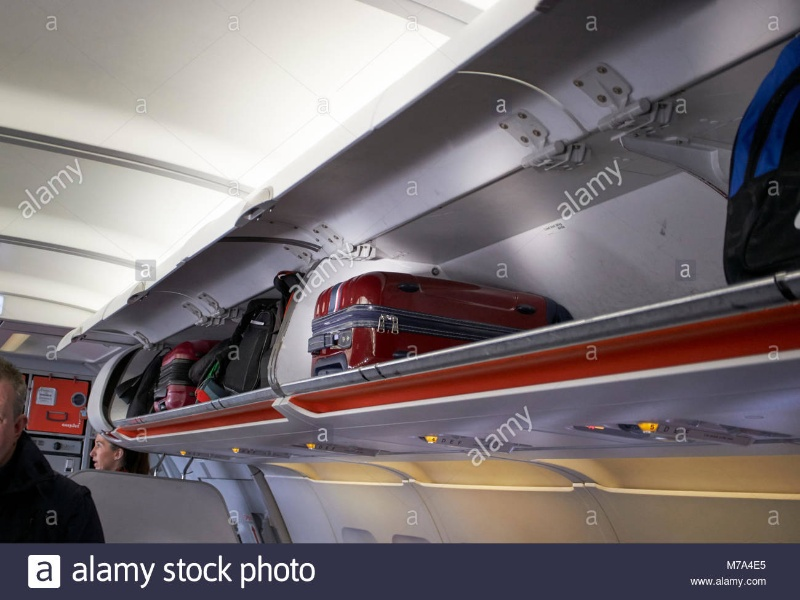close_bin: (86, 347, 129, 428)
open_bin: (275, 13, 507, 438), (513, 8, 800, 322), (119, 234, 309, 432)
